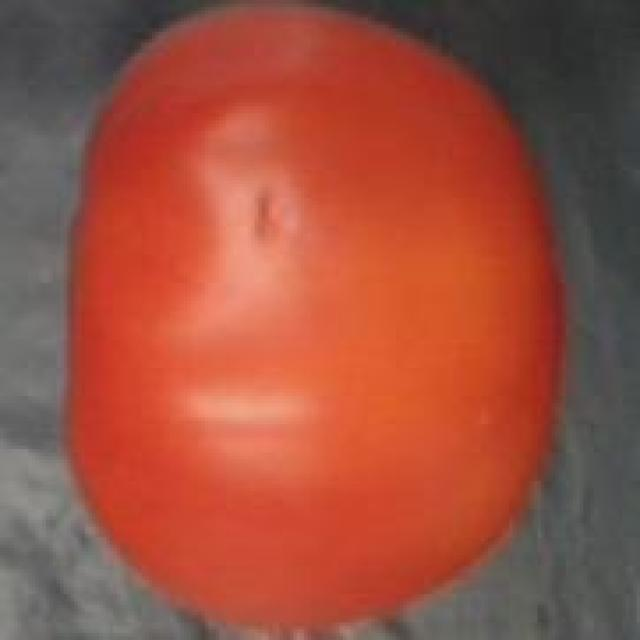ripe tomato: (60, 0, 569, 640)
